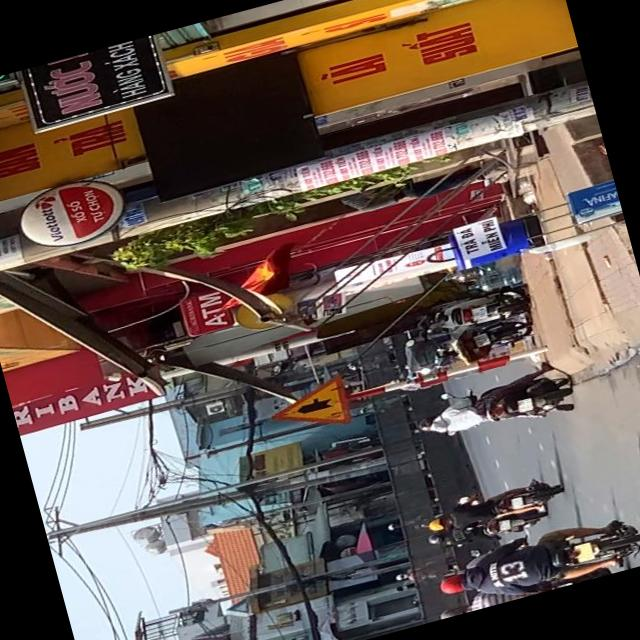W-207b: (262, 375, 352, 442)
